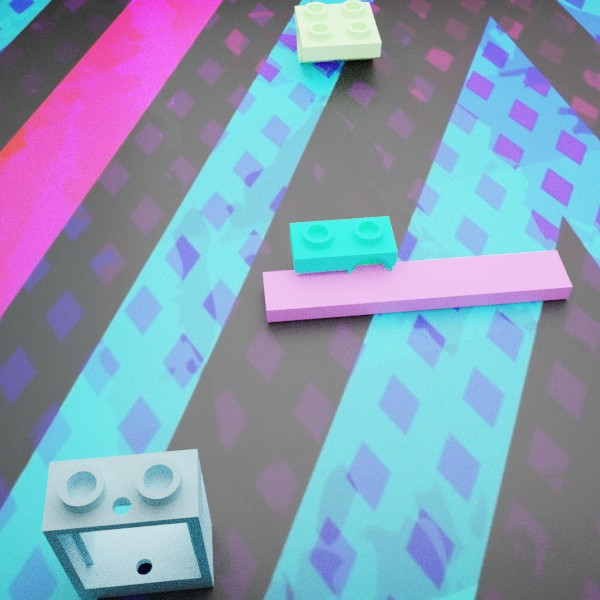lego: (41, 449, 213, 600), (262, 250, 572, 322), (289, 216, 397, 286), (294, 0, 381, 63)
